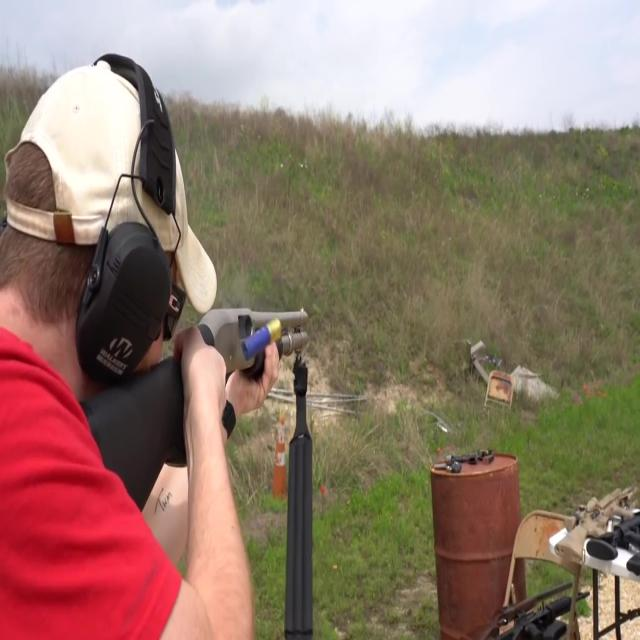Weapon: (58, 229, 336, 538), (544, 460, 640, 620), (408, 410, 528, 526), (462, 572, 604, 640)
